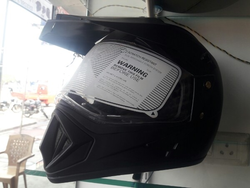with_helmet: (35, 17, 227, 186)
